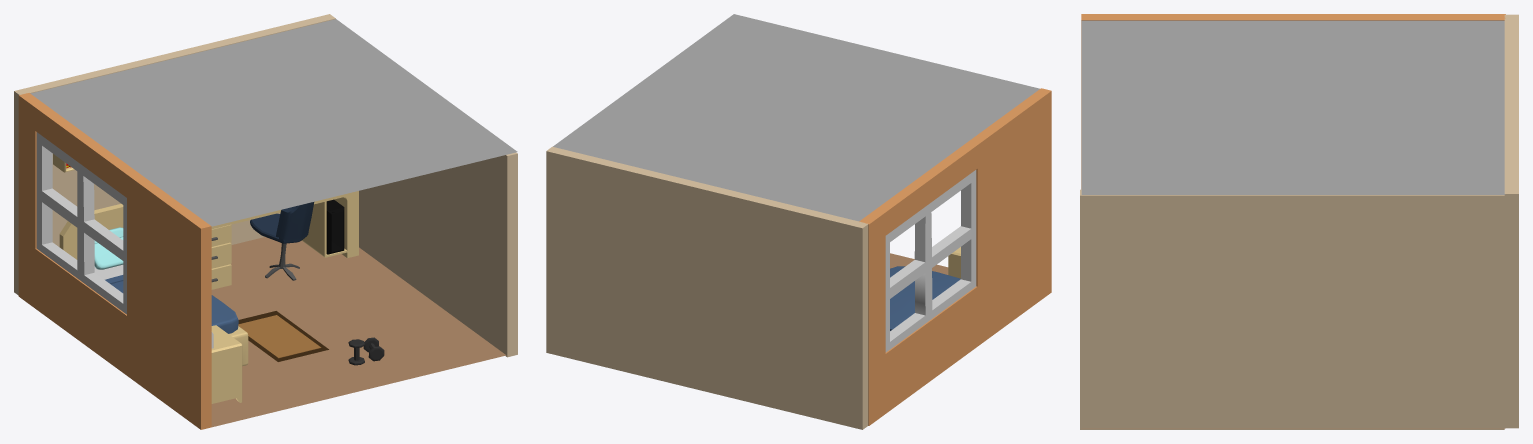
File: uploads_files_2517814_House.fbx
3 renders of one model, left to right at view 1: azimuth 30°, elevation 25°; view 2: azimuth 150°, elevation 25°; view 3: azimuth 270°, elevation 25°, orthographic. The views are drawn at different scales.
Visible parts, largest first — view 1: pCube201; view 2: pCube201; view 3: pCube201.
Boxes of the visible parts, left/top/right/bottom form: pCube201: left=14, top=14, right=517, bottom=429; pCube201: left=546, top=14, right=1051, bottom=429; pCube201: left=1080, top=14, right=1518, bottom=429.
Size of the model in its own units: 30.12 by 18.42 by 31.
